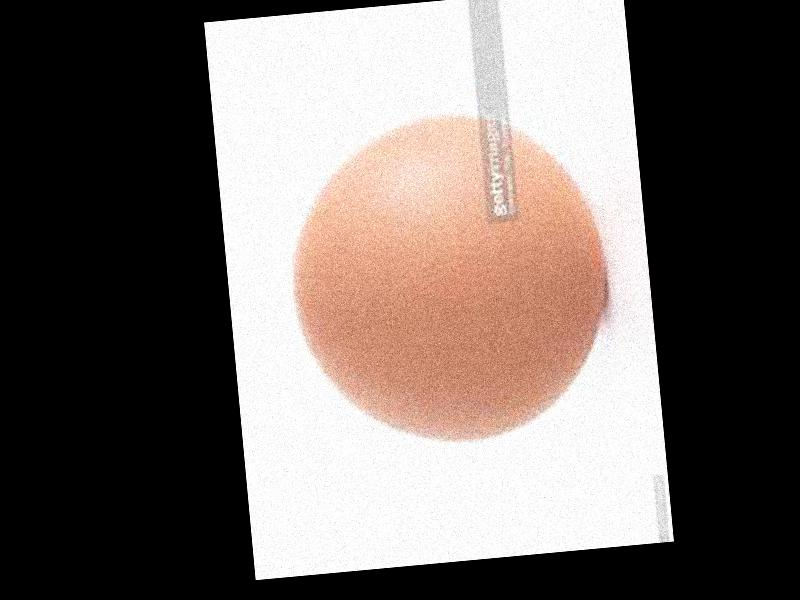Eggs: (278, 102, 613, 454)
